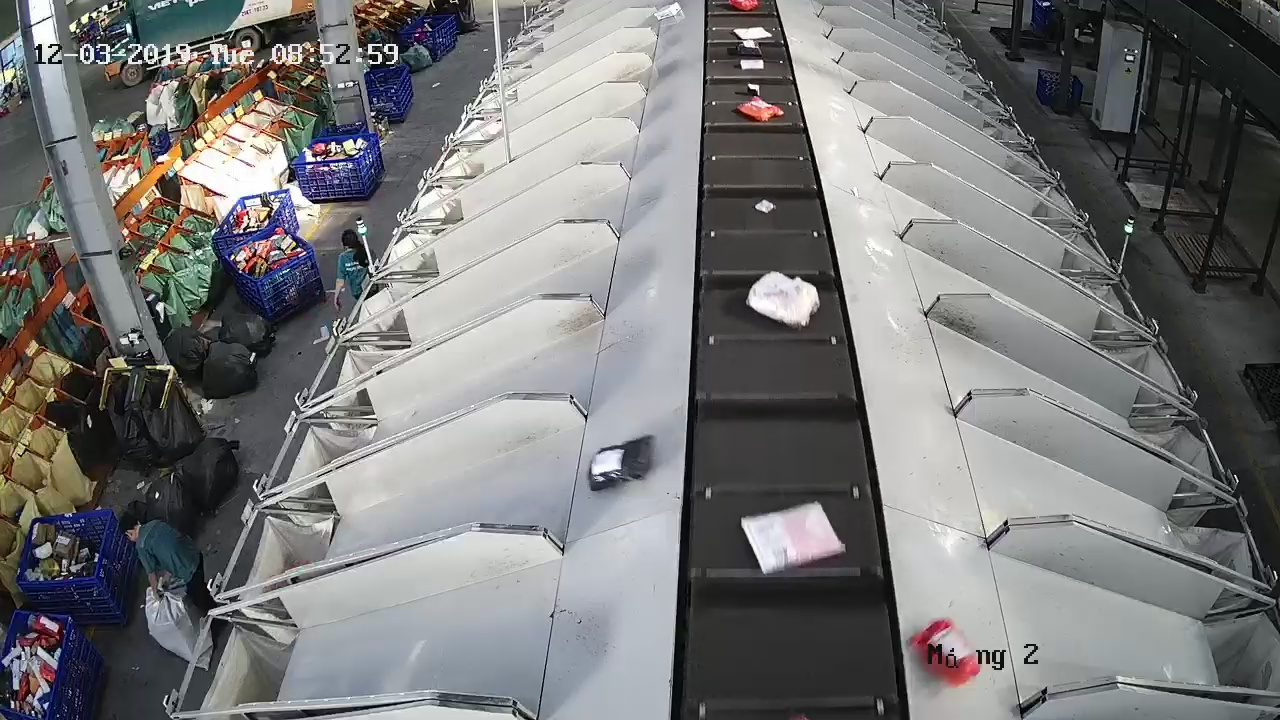parcel: (738, 498, 848, 577), (906, 616, 986, 688), (743, 269, 822, 332), (586, 433, 655, 493), (751, 197, 778, 215)
